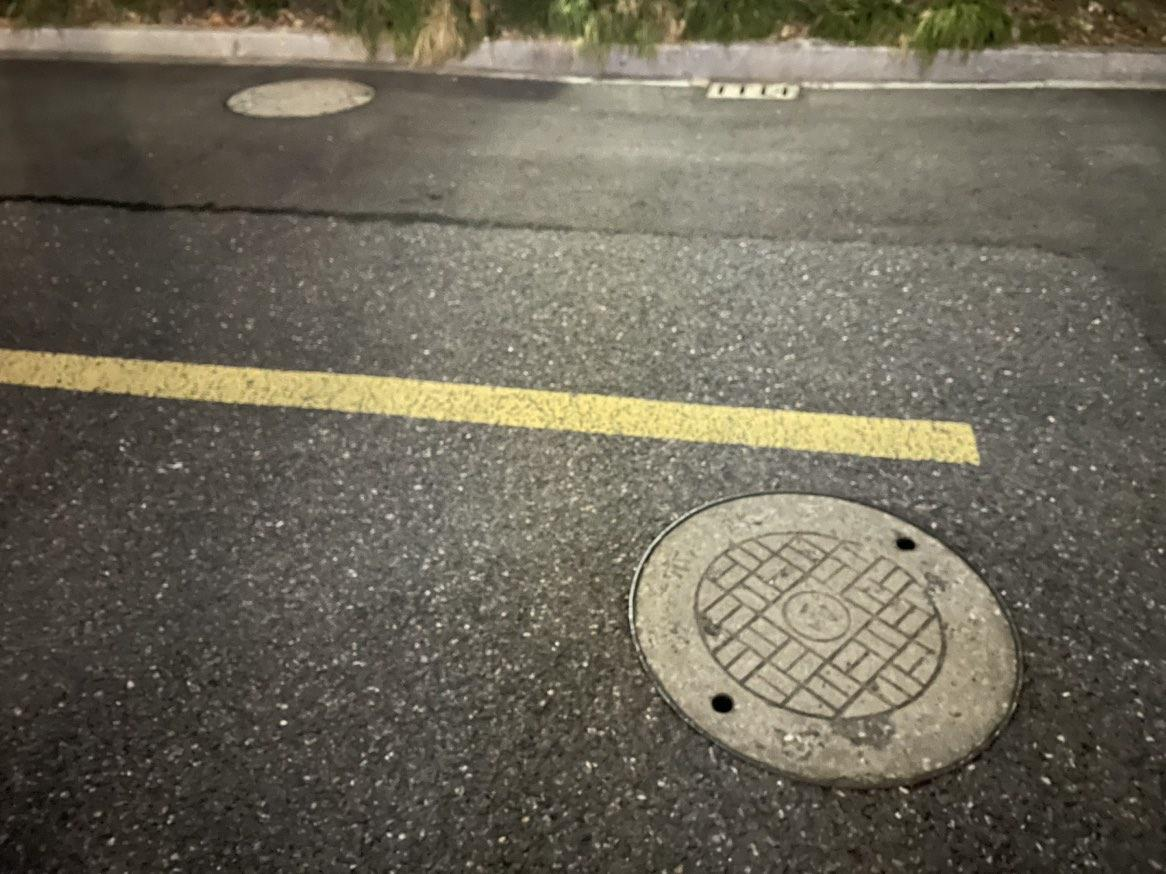wellcover: (622, 478, 1034, 795), (210, 62, 392, 138), (686, 65, 815, 116)
